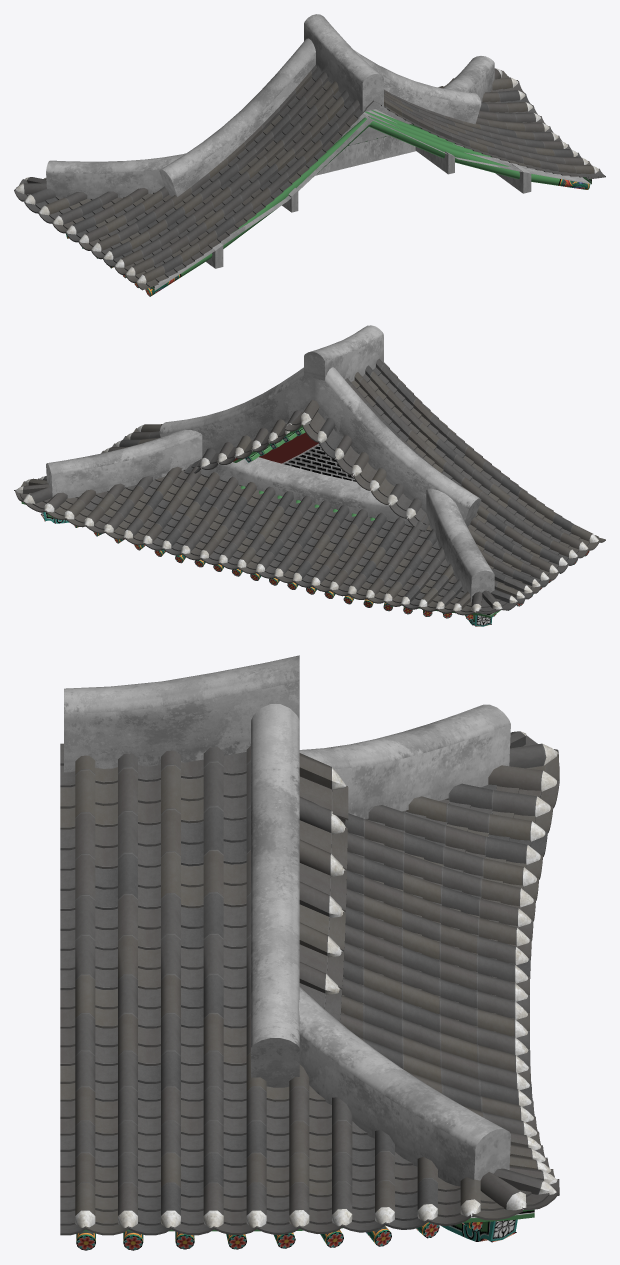
Rendered from SM_Gate_Roof02b.fbx.
3 views of the same model, one above another, from view 1: azimuth 30°, elevation 25°; view 2: azimuth 150°, elevation 25°; view 3: azimuth 270°, elevation 25° (orthographic). The views are drawn at different scales.
Visible parts, largest first — view 1: SM_Gate_Roof02b; view 2: SM_Gate_Roof02b; view 3: SM_Gate_Roof02b.
Part boxes in pixels (x1,y1,x2,y2): SM_Gate_Roof02b: [14, 14, 605, 296]; SM_Gate_Roof02b: [14, 325, 605, 626]; SM_Gate_Roof02b: [60, 655, 559, 1250].
Size of the model in its own units: 800 by 350 by 301.
2 materials, 2 textured.
